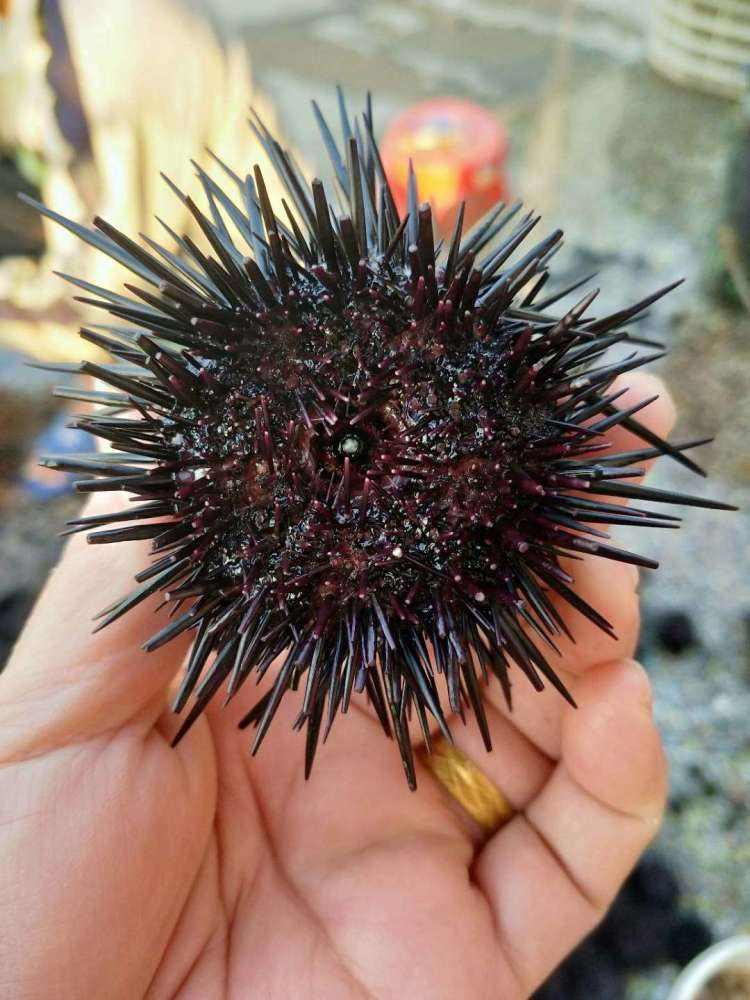urchin: (19, 90, 736, 792)
